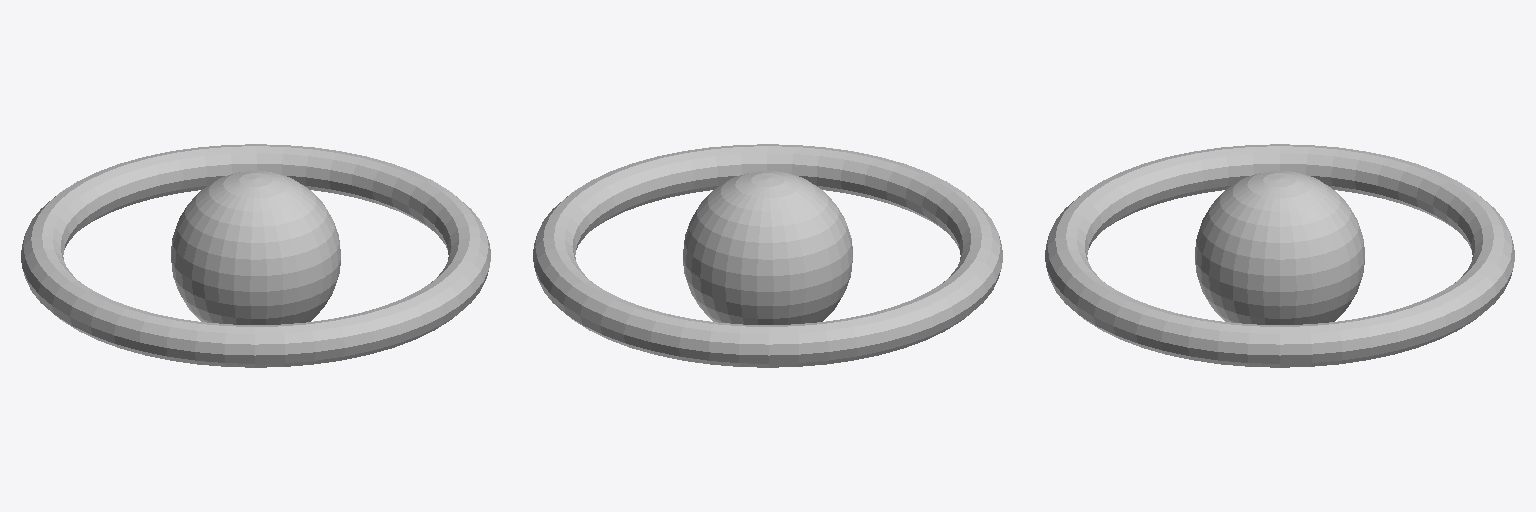
File: planet.obj
3 renders of one model, left to right at view 1: azimuth 30°, elevation 25°; view 2: azimuth 150°, elevation 25°; view 3: azimuth 270°, elevation 25°, orthographic.
Parts seen in each view (by area): view 1: BezierCircle, Sphere; view 2: BezierCircle, Sphere; view 3: BezierCircle, Sphere.
Boxes of the visible parts, x1,y1,x2,y2 form: BezierCircle: [21, 144, 490, 367]; Sphere: [171, 171, 340, 324]; BezierCircle: [533, 144, 1002, 367]; Sphere: [683, 171, 852, 324]; BezierCircle: [1045, 144, 1514, 367]; Sphere: [1195, 171, 1364, 324].
Bounding box in the file's own units: 8.48 × 3.08 × 8.48.